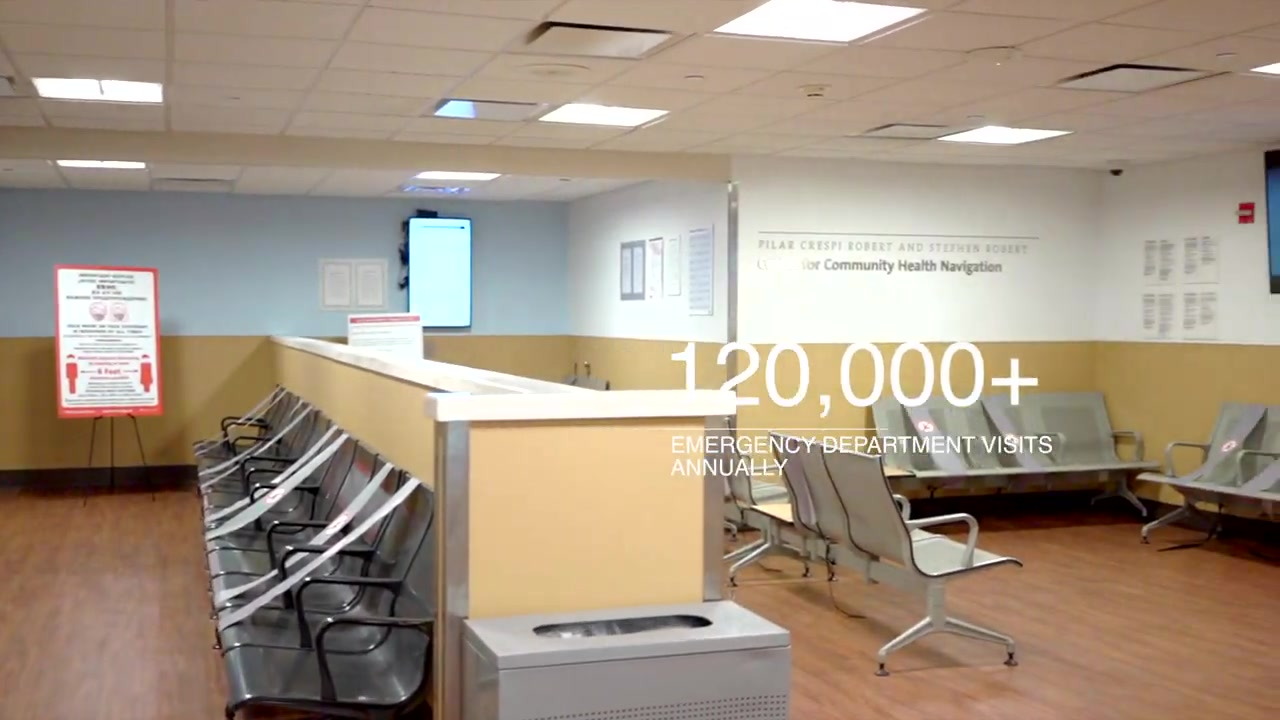TV: (408, 217, 472, 328), (1262, 150, 1280, 294)
chair: (723, 428, 1024, 678), (225, 503, 441, 720), (219, 473, 431, 689), (208, 456, 407, 650), (871, 391, 1163, 517), (205, 441, 383, 627), (1135, 399, 1280, 545)
countertop: (262, 327, 745, 427)
waste_bin: (461, 599, 793, 720)
